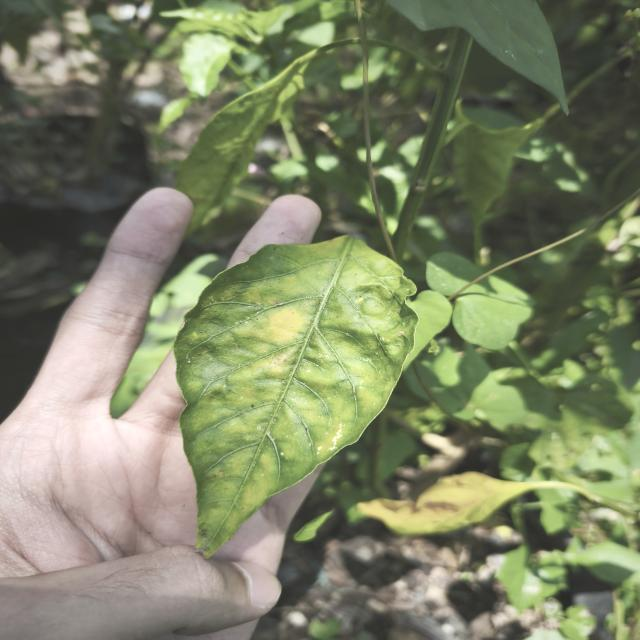Virus Kuning: (172, 234, 420, 558)
